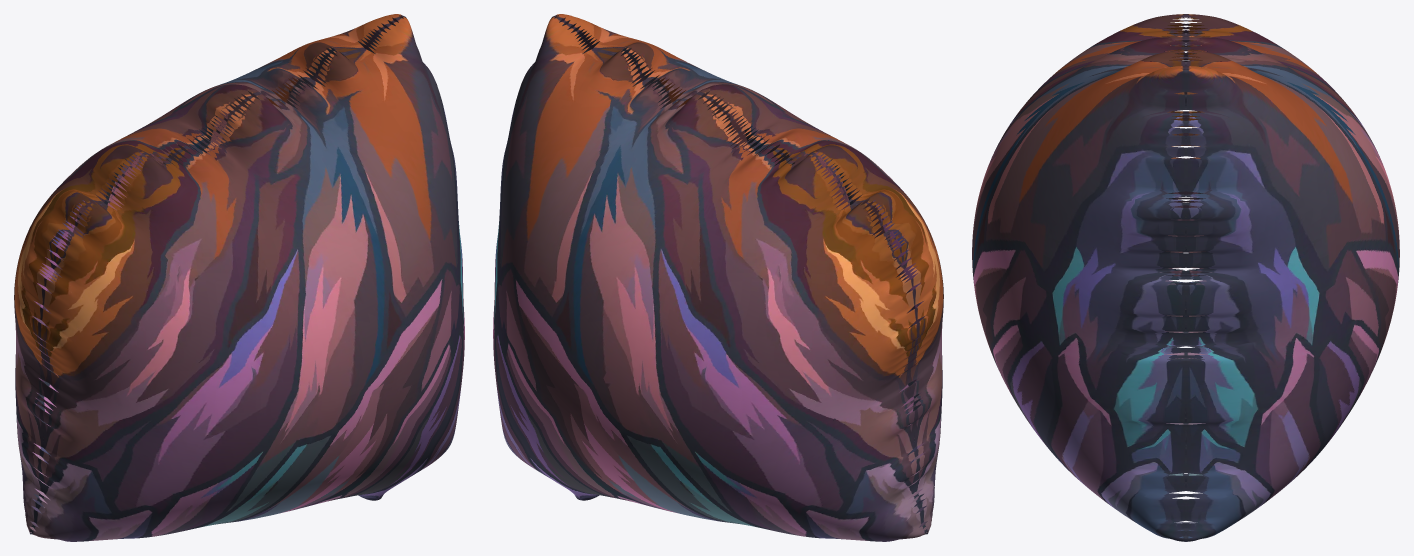
The model's file is far_cliff.glb.
The picture shows the model from 3 angles, left to right: view 1: azimuth 30°, elevation 25°; view 2: azimuth 150°, elevation 25°; view 3: azimuth 270°, elevation 25°; orthographic projection. The views are drawn at different scales.
Parts seen in each view (by area): view 1: far_cliff; view 2: far_cliff; view 3: far_cliff.
Boxes of the visible parts, box(x1,y1,x2,y2) form: far_cliff: box(14, 14, 464, 541); far_cliff: box(493, 14, 943, 541); far_cliff: box(972, 14, 1399, 541).
Size of the model in its own units: 0.9883 by 1.01 by 0.8406.
Materials: 1 (1 with a texture image).
